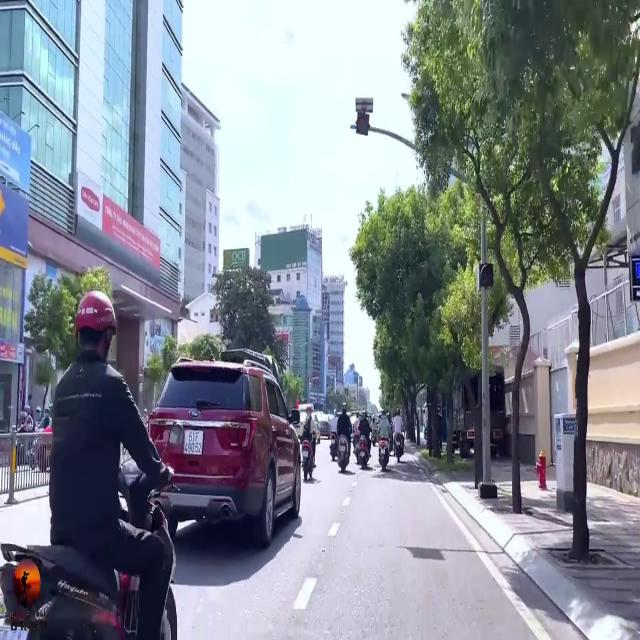bien_trang: (182, 427, 205, 460)
